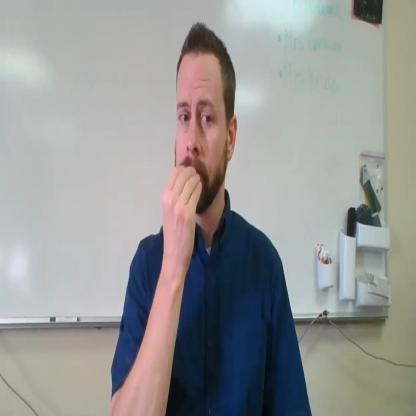Food: (164, 20, 261, 284)
